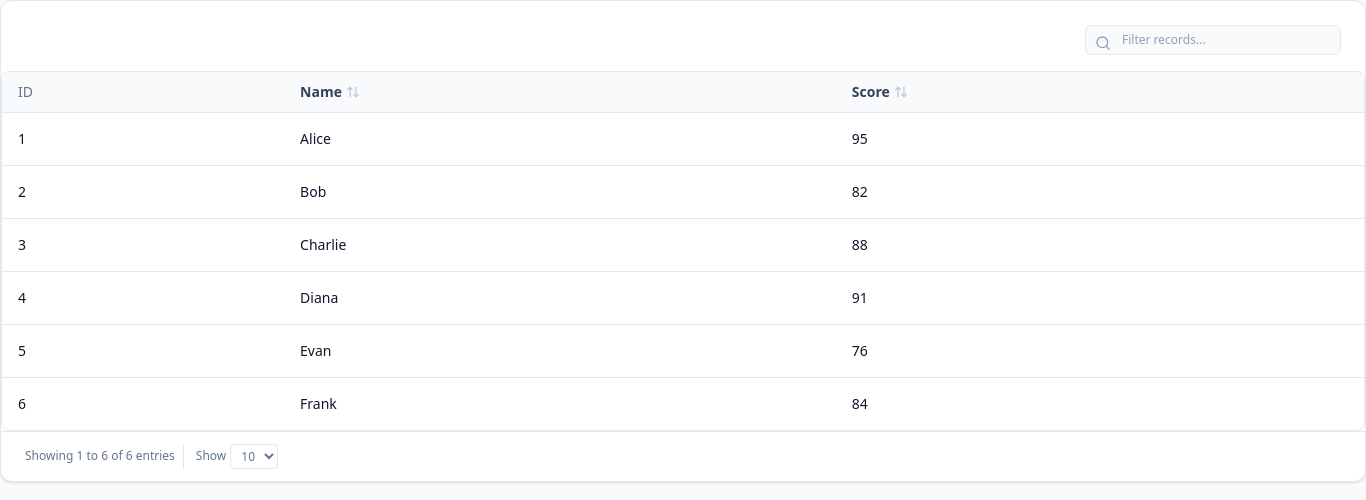
Test: Data Visualization & Dashboard Toolkit (Component Tests) › PaginatedDataTable › filters rows via search input
Type "Diana" into the field labelled "Filter records" at (1213, 40), box [1085,25,1341,55]
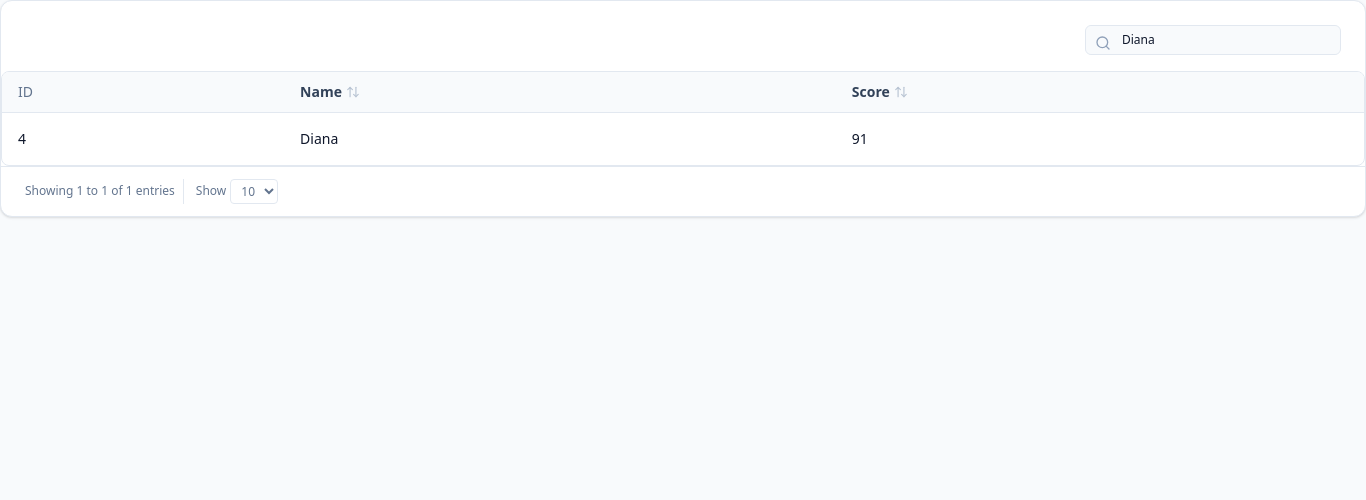
Expected: the text "Diana" is shown, [284,112,836,164]
Expected: the text "Alice" is gone
